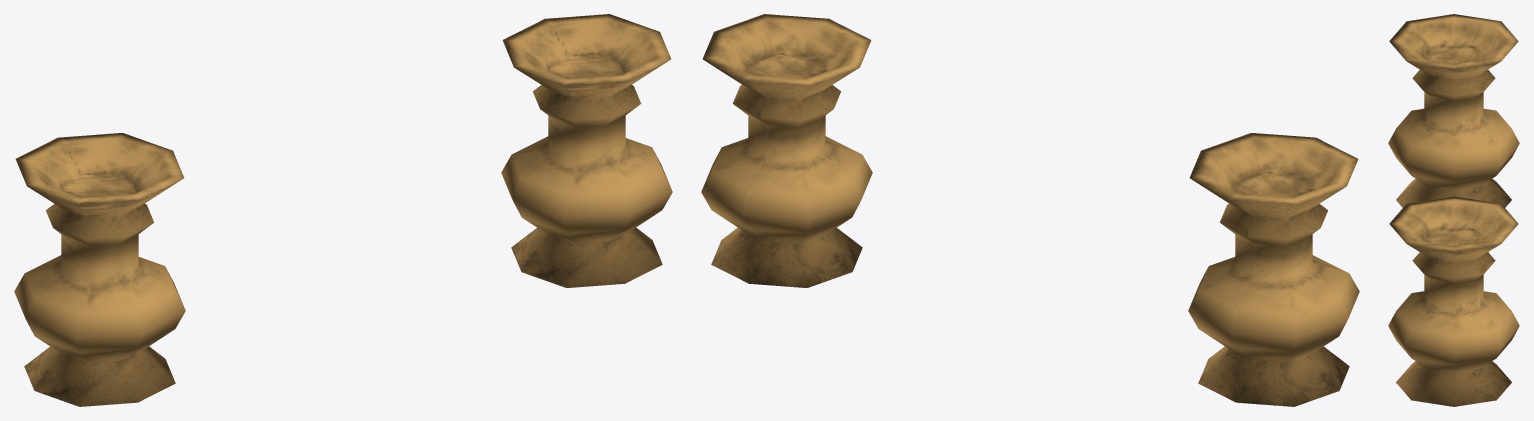
The model's file is Candlestick.fbx.
3 renders of one model, left to right at view 1: azimuth 30°, elevation 25°; view 2: azimuth 150°, elevation 25°; view 3: azimuth 270°, elevation 25°, orthographic. The views are drawn at different scales.
Visible parts, largest first — view 1: Candlestick; view 2: Candlestick; view 3: Candlestick.
Part boxes in pixels (box(x1,y1,x2,y2)): Candlestick: box(14, 14, 672, 406); Candlestick: box(701, 14, 1359, 406); Candlestick: box(1388, 14, 1519, 406).
Size of the model in its own units: 54.52 by 16.92 by 12.74.
Materials: 1 (1 with a texture image).
